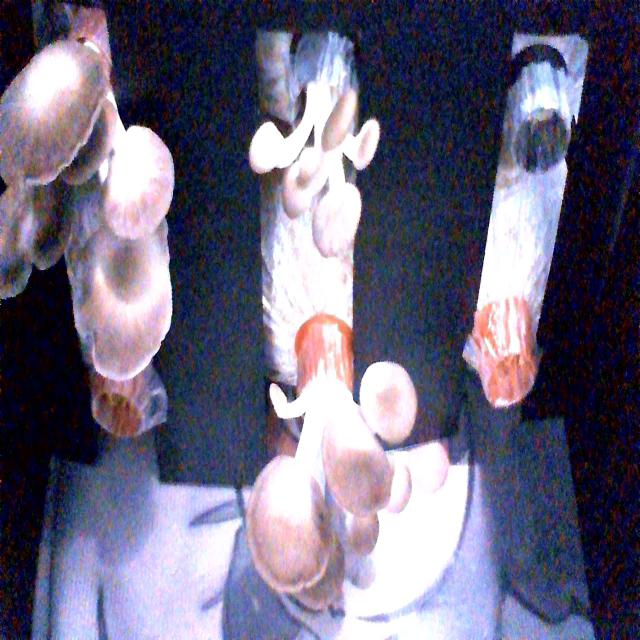big: (0, 41, 170, 384), (241, 358, 422, 591)
nfound: (80, 376, 176, 452), (506, 86, 572, 180), (483, 323, 543, 413)
small: (247, 62, 387, 255)
